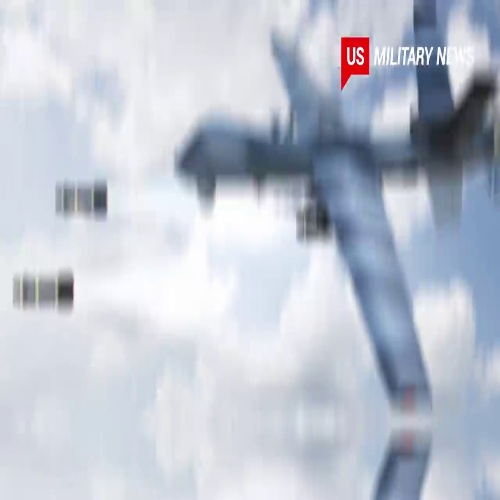uav395: (174, 3, 494, 405)
